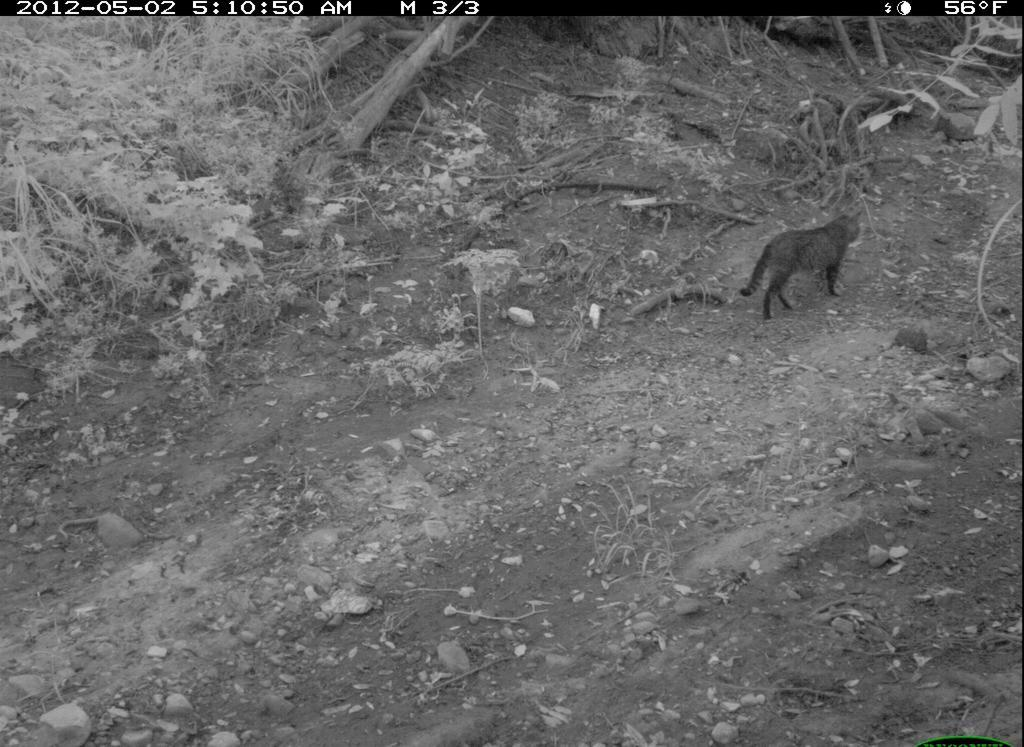cat: (734, 203, 870, 322)
